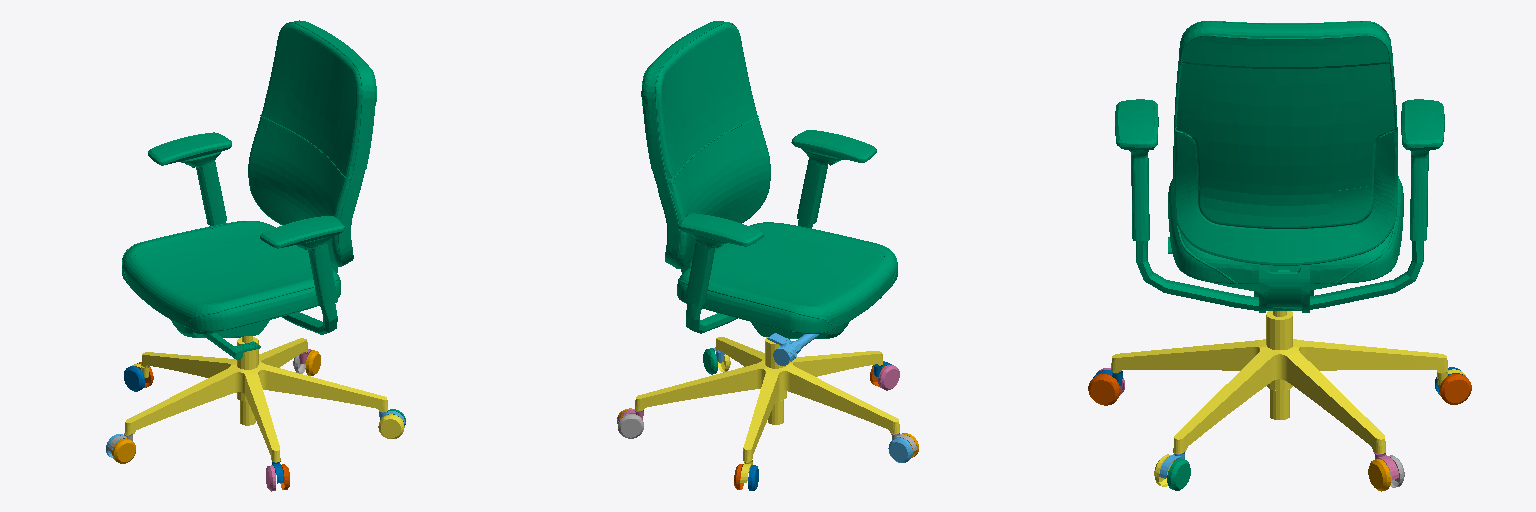
robot.urdf — partnet_6b64af50e21c0006f91663a74ccd2338:
<?xml version="1.0" ?>
<robot name="partnet_6b64af50e21c0006f91663a74ccd2338">
	<link name="base"/>
	<link name="link_0">
		<visual name="lever-36">
			<origin xyz="0.0867137615866961 0.2223942054426161 0"/>
			<geometry>
				<mesh filename="textured_objs/original-42.obj"/>
			</geometry>
		</visual>
		<visual name="lever-36">
			<origin xyz="0.0867137615866961 0.2223942054426161 0"/>
			<geometry>
				<mesh filename="textured_objs/original-62.obj"/>
			</geometry>
		</visual>
		<collision>
			<origin xyz="0.0867137615866961 0.2223942054426161 0"/>
			<geometry>
				<mesh filename="textured_objs/original-42.obj"/>
			</geometry>
		</collision>
		<collision>
			<origin xyz="0.0867137615866961 0.2223942054426161 0"/>
			<geometry>
				<mesh filename="textured_objs/original-62.obj"/>
			</geometry>
		</collision>
	</link>
	<joint name="joint_0" type="revolute">
		<origin xyz="-0.12395472404050402 -0.2223942054426161 -0.09912982361573322"/>
		<axis xyz="0 0 1"/>
		<child link="link_0"/>
		<parent link="link_17"/>
		<limit lower="0.0" upper="0.17453292519943295"/>
	</joint>
	<link name="link_1">
		<visual name="knob-37">
			<origin xyz="-0.11468992328806747 0.21943186004442178 0"/>
			<geometry>
				<mesh filename="textured_objs/original-40.obj"/>
			</geometry>
		</visual>
		<collision>
			<origin xyz="-0.11468992328806747 0.21943186004442178 0"/>
			<geometry>
				<mesh filename="textured_objs/original-40.obj"/>
			</geometry>
		</collision>
	</link>
	<joint name="joint_1" type="revolute">
		<origin xyz="0.07744896083425955 -0.21943186004442178 -0.09912982361573322"/>
		<axis xyz="0 0 -1"/>
		<child link="link_1"/>
		<parent link="link_17"/>
		<limit lower="-0.0" upper="0.17453292519943295"/>
	</joint>
	<link name="link_2">
		<visual name="caster_yoke-32">
			<origin xyz="0.4895858406043716 0.5830394902560276 -0.253455177251082"/>
			<geometry>
				<mesh filename="textured_objs/original-32.obj"/>
			</geometry>
		</visual>
		<visual name="caster_yoke-32">
			<origin xyz="0.4895858406043716 0.5830394902560276 -0.253455177251082"/>
			<geometry>
				<mesh filename="textured_objs/original-34.obj"/>
			</geometry>
		</visual>
		<collision>
			<origin xyz="0.4895858406043716 0.5830394902560276 -0.253455177251082"/>
			<geometry>
				<mesh filename="textured_objs/original-32.obj"/>
			</geometry>
		</collision>
		<collision>
			<origin xyz="0.4895858406043716 0.5830394902560276 -0.253455177251082"/>
			<geometry>
				<mesh filename="textured_objs/original-34.obj"/>
			</geometry>
		</collision>
	</link>
	<joint name="joint_2" type="continuous">
		<origin xyz="-0.4895858406043716 -0.5830394902560276 0.253455177251082"/>
		<axis xyz="0 1 0"/>
		<child link="link_2"/>
		<parent link="link_18"/>
	</joint>
	<link name="link_3">
		<visual name="wheel-33">
			<origin xyz="0.5533260389183724 0.6965814826370507 -0.18083248763154888"/>
			<geometry>
				<mesh filename="textured_objs/original-33.obj"/>
			</geometry>
		</visual>
		<collision>
			<origin xyz="0.5533260389183724 0.6965814826370507 -0.18083248763154888"/>
			<geometry>
				<mesh filename="textured_objs/original-33.obj"/>
			</geometry>
		</collision>
	</link>
	<joint name="joint_3" type="continuous">
		<origin xyz="-0.0637401983140008 -0.11354199238102303 -0.07262268961953314"/>
		<axis xyz="0.3106643309300376 -1.9843273926824623e-05 0.9505196858003713"/>
		<child link="link_3"/>
		<parent link="link_2"/>
	</joint>
	<link name="link_4">
		<visual name="wheel-34">
			<origin xyz="0.5533260389183724 0.6965814826370507 -0.18083248763154888"/>
			<geometry>
				<mesh filename="textured_objs/original-35.obj"/>
			</geometry>
		</visual>
		<collision>
			<origin xyz="0.5533260389183724 0.6965814826370507 -0.18083248763154888"/>
			<geometry>
				<mesh filename="textured_objs/original-35.obj"/>
			</geometry>
		</collision>
	</link>
	<joint name="joint_4" type="continuous">
		<origin xyz="-0.0637401983140008 -0.11354199238102303 -0.07262268961953314"/>
		<axis xyz="0.3106643309300376 -1.9843273926824623e-05 0.9505196858003713"/>
		<child link="link_4"/>
		<parent link="link_2"/>
	</joint>
	<link name="link_5">
		<visual name="caster_yoke-29">
			<origin xyz="0.3012912877615683 0.5847476046971485 0.3572554323833405"/>
			<geometry>
				<mesh filename="textured_objs/original-27.obj"/>
			</geometry>
		</visual>
		<visual name="caster_yoke-29">
			<origin xyz="0.3012912877615683 0.5847476046971485 0.3572554323833405"/>
			<geometry>
				<mesh filename="textured_objs/original-29.obj"/>
			</geometry>
		</visual>
		<collision>
			<origin xyz="0.3012912877615683 0.5847476046971485 0.3572554323833405"/>
			<geometry>
				<mesh filename="textured_objs/original-27.obj"/>
			</geometry>
		</collision>
		<collision>
			<origin xyz="0.3012912877615683 0.5847476046971485 0.3572554323833405"/>
			<geometry>
				<mesh filename="textured_objs/original-29.obj"/>
			</geometry>
		</collision>
	</link>
	<joint name="joint_5" type="continuous">
		<origin xyz="-0.3012912877615683 -0.5847476046971485 -0.3572554323833405"/>
		<axis xyz="0 1 0"/>
		<child link="link_5"/>
		<parent link="link_18"/>
	</joint>
	<link name="link_6">
		<visual name="wheel-30">
			<origin xyz="0.2778916245334744 0.6980831859704367 0.4088713372907437"/>
			<geometry>
				<mesh filename="textured_objs/original-28.obj"/>
			</geometry>
		</visual>
		<collision>
			<origin xyz="0.2778916245334744 0.6980831859704367 0.4088713372907437"/>
			<geometry>
				<mesh filename="textured_objs/original-28.obj"/>
			</geometry>
		</collision>
	</link>
	<joint name="joint_6" type="continuous">
		<origin xyz="0.023399663228093948 -0.11333558127328824 -0.0516159049074032"/>
		<axis xyz="0.8270832800434914 -3.061998074444318e-05 -0.5620793955794112"/>
		<child link="link_6"/>
		<parent link="link_5"/>
	</joint>
	<link name="link_7">
		<visual name="wheel-31">
			<origin xyz="0.2778916245334744 0.6980831859704367 0.4088713372907437"/>
			<geometry>
				<mesh filename="textured_objs/original-30.obj"/>
			</geometry>
		</visual>
		<collision>
			<origin xyz="0.2778916245334744 0.6980831859704367 0.4088713372907437"/>
			<geometry>
				<mesh filename="textured_objs/original-30.obj"/>
			</geometry>
		</collision>
	</link>
	<joint name="joint_7" type="continuous">
		<origin xyz="0.023399663228093948 -0.11333558127328824 -0.0516159049074032"/>
		<axis xyz="0.8270832800434914 -3.061998074444318e-05 -0.5620793955794112"/>
		<child link="link_7"/>
		<parent link="link_5"/>
	</joint>
	<link name="link_8">
		<visual name="caster_yoke-26">
			<origin xyz="-0.34291460485739095 0.5821575973237061 0.35257194262323965"/>
			<geometry>
				<mesh filename="textured_objs/original-58.obj"/>
			</geometry>
		</visual>
		<visual name="caster_yoke-26">
			<origin xyz="-0.34291460485739095 0.5821575973237061 0.35257194262323965"/>
			<geometry>
				<mesh filename="textured_objs/original-60.obj"/>
			</geometry>
		</visual>
		<collision>
			<origin xyz="-0.34291460485739095 0.5821575973237061 0.35257194262323965"/>
			<geometry>
				<mesh filename="textured_objs/original-58.obj"/>
			</geometry>
		</collision>
		<collision>
			<origin xyz="-0.34291460485739095 0.5821575973237061 0.35257194262323965"/>
			<geometry>
				<mesh filename="textured_objs/original-60.obj"/>
			</geometry>
		</collision>
	</link>
	<joint name="joint_8" type="continuous">
		<origin xyz="0.34291460485739095 -0.5821575973237061 -0.35257194262323965"/>
		<axis xyz="0 1 0"/>
		<child link="link_8"/>
		<parent link="link_18"/>
	</joint>
	<link name="link_9">
		<visual name="wheel-27">
			<origin xyz="-0.3174358538313395 0.6965838264138771 0.42125608016819877"/>
			<geometry>
				<mesh filename="textured_objs/original-59.obj"/>
			</geometry>
		</visual>
		<collision>
			<origin xyz="-0.3174358538313395 0.6965838264138771 0.42125608016819877"/>
			<geometry>
				<mesh filename="textured_objs/original-59.obj"/>
			</geometry>
		</collision>
	</link>
	<joint name="joint_9" type="continuous">
		<origin xyz="-0.02547875102605146 -0.11442622909017097 -0.06868413754495911"/>
		<axis xyz="0.7986350590458754 -4.4415992680479e-06 0.6018156216342871"/>
		<child link="link_9"/>
		<parent link="link_8"/>
	</joint>
	<link name="link_10">
		<visual name="wheel-28">
			<origin xyz="-0.3174358538313395 0.6965838264138771 0.42125608016819877"/>
			<geometry>
				<mesh filename="textured_objs/original-61.obj"/>
			</geometry>
		</visual>
		<collision>
			<origin xyz="-0.3174358538313395 0.6965838264138771 0.42125608016819877"/>
			<geometry>
				<mesh filename="textured_objs/original-61.obj"/>
			</geometry>
		</collision>
	</link>
	<joint name="joint_10" type="continuous">
		<origin xyz="-0.02547875102605146 -0.11442622909017097 -0.06868413754495911"/>
		<axis xyz="0.7986350590458754 -4.4415992680479e-06 0.6018156216342871"/>
		<child link="link_10"/>
		<parent link="link_8"/>
	</joint>
	<link name="link_11">
		<visual name="caster_yoke-23">
			<origin xyz="-0.5444537376583825 0.5825445415306176 -0.24306977461536217"/>
			<geometry>
				<mesh filename="textured_objs/original-53.obj"/>
			</geometry>
		</visual>
		<visual name="caster_yoke-23">
			<origin xyz="-0.5444537376583825 0.5825445415306176 -0.24306977461536217"/>
			<geometry>
				<mesh filename="textured_objs/original-55.obj"/>
			</geometry>
		</visual>
		<collision>
			<origin xyz="-0.5444537376583825 0.5825445415306176 -0.24306977461536217"/>
			<geometry>
				<mesh filename="textured_objs/original-53.obj"/>
			</geometry>
		</collision>
		<collision>
			<origin xyz="-0.5444537376583825 0.5825445415306176 -0.24306977461536217"/>
			<geometry>
				<mesh filename="textured_objs/original-55.obj"/>
			</geometry>
		</collision>
	</link>
	<joint name="joint_11" type="continuous">
		<origin xyz="0.5444537376583825 -0.5825445415306176 0.24306977461536217"/>
		<axis xyz="0 1 0"/>
		<child link="link_11"/>
		<parent link="link_18"/>
	</joint>
	<link name="link_12">
		<visual name="wheel-24">
			<origin xyz="-0.599006503457298 0.6965847554468528 -0.19464303779645567"/>
			<geometry>
				<mesh filename="textured_objs/original-54.obj"/>
			</geometry>
		</visual>
		<collision>
			<origin xyz="-0.599006503457298 0.6965847554468528 -0.19464303779645567"/>
			<geometry>
				<mesh filename="textured_objs/original-54.obj"/>
			</geometry>
		</collision>
	</link>
	<joint name="joint_12" type="continuous">
		<origin xyz="0.05455276579891555 -0.1140402139162352 -0.048426736818906496"/>
		<axis xyz="-0.30901561032438146 2.0471427303068252e-05 0.9510569657790069"/>
		<child link="link_12"/>
		<parent link="link_11"/>
	</joint>
	<link name="link_13">
		<visual name="wheel-25">
			<origin xyz="-0.599006503457298 0.6965847554468528 -0.19464303779645567"/>
			<geometry>
				<mesh filename="textured_objs/original-56.obj"/>
			</geometry>
		</visual>
		<collision>
			<origin xyz="-0.599006503457298 0.6965847554468528 -0.19464303779645567"/>
			<geometry>
				<mesh filename="textured_objs/original-56.obj"/>
			</geometry>
		</collision>
	</link>
	<joint name="joint_13" type="continuous">
		<origin xyz="0.05455276579891555 -0.1140402139162352 -0.048426736818906496"/>
		<axis xyz="-0.30901561032438146 2.0471427303068252e-05 0.9510569657790069"/>
		<child link="link_13"/>
		<parent link="link_11"/>
	</joint>
	<link name="link_14">
		<visual name="caster_yoke-20">
			<origin xyz="-0.03309292584786161 0.5837579777996642 -0.6310802819334431"/>
			<geometry>
				<mesh filename="textured_objs/original-22.obj"/>
			</geometry>
		</visual>
		<visual name="caster_yoke-20">
			<origin xyz="-0.03309292584786161 0.5837579777996642 -0.6310802819334431"/>
			<geometry>
				<mesh filename="textured_objs/original-24.obj"/>
			</geometry>
		</visual>
		<collision>
			<origin xyz="-0.03309292584786161 0.5837579777996642 -0.6310802819334431"/>
			<geometry>
				<mesh filename="textured_objs/original-22.obj"/>
			</geometry>
		</collision>
		<collision>
			<origin xyz="-0.03309292584786161 0.5837579777996642 -0.6310802819334431"/>
			<geometry>
				<mesh filename="textured_objs/original-24.obj"/>
			</geometry>
		</collision>
	</link>
	<joint name="joint_14" type="continuous">
		<origin xyz="0.03309292584786161 -0.5837579777996642 0.6310802819334431"/>
		<axis xyz="0 1 0"/>
		<child link="link_14"/>
		<parent link="link_18"/>
	</joint>
	<link name="link_15">
		<visual name="wheel-21">
			<origin xyz="-0.007334800425433596 0.6972213598988297 -0.6677659950132963"/>
			<geometry>
				<mesh filename="textured_objs/original-23.obj"/>
			</geometry>
		</visual>
		<collision>
			<origin xyz="-0.007334800425433596 0.6972213598988297 -0.6677659950132963"/>
			<geometry>
				<mesh filename="textured_objs/original-23.obj"/>
			</geometry>
		</collision>
	</link>
	<joint name="joint_15" type="continuous">
		<origin xyz="-0.025758125422428012 -0.11346338209916551 0.03668571307985313"/>
		<axis xyz="0.999939204717544 -4.1322984117651575e-05 -0.011026566158899317"/>
		<child link="link_15"/>
		<parent link="link_14"/>
	</joint>
	<link name="link_16">
		<visual name="wheel-22">
			<origin xyz="-0.007334800425433596 0.6972213598988297 -0.6677659950132963"/>
			<geometry>
				<mesh filename="textured_objs/original-25.obj"/>
			</geometry>
		</visual>
		<collision>
			<origin xyz="-0.007334800425433596 0.6972213598988297 -0.6677659950132963"/>
			<geometry>
				<mesh filename="textured_objs/original-25.obj"/>
			</geometry>
		</collision>
	</link>
	<joint name="joint_16" type="continuous">
		<origin xyz="-0.025758125422428012 -0.11346338209916551 0.03668571307985313"/>
		<axis xyz="0.999939204717544 -4.1322984117651575e-05 -0.011026566158899317"/>
		<child link="link_16"/>
		<parent link="link_14"/>
	</joint>
	<link name="link_17">
		<visual name="seat_soft_surface-57">
			<origin xyz="-0.037240962453807924 0 -0.09912982361573322"/>
			<geometry>
				<mesh filename="textured_objs/original-2.obj"/>
			</geometry>
		</visual>
		<visual name="seat_soft_surface-57">
			<origin xyz="-0.037240962453807924 0 -0.09912982361573322"/>
			<geometry>
				<mesh filename="textured_objs/original-18.obj"/>
			</geometry>
		</visual>
		<visual name="seat_soft_surface-57">
			<origin xyz="-0.037240962453807924 0 -0.09912982361573322"/>
			<geometry>
				<mesh filename="textured_objs/original-43.obj"/>
			</geometry>
		</visual>
		<visual name="seat_soft_surface-57">
			<origin xyz="-0.037240962453807924 0 -0.09912982361573322"/>
			<geometry>
				<mesh filename="textured_objs/original-4.obj"/>
			</geometry>
		</visual>
		<visual name="seat_soft_surface-57">
			<origin xyz="-0.037240962453807924 0 -0.09912982361573322"/>
			<geometry>
				<mesh filename="textured_objs/original-3.obj"/>
			</geometry>
		</visual>
		<visual name="back_soft_surface-54">
			<origin xyz="-0.037240962453807924 0 -0.09912982361573322"/>
			<geometry>
				<mesh filename="textured_objs/original-7.obj"/>
			</geometry>
		</visual>
		<visual name="back_soft_surface-54">
			<origin xyz="-0.037240962453807924 0 -0.09912982361573322"/>
			<geometry>
				<mesh filename="textured_objs/original-10.obj"/>
			</geometry>
		</visual>
		<visual name="back_soft_surface-54">
			<origin xyz="-0.037240962453807924 0 -0.09912982361573322"/>
			<geometry>
				<mesh filename="textured_objs/original-16.obj"/>
			</geometry>
		</visual>
		<visual name="back_soft_surface-54">
			<origin xyz="-0.037240962453807924 0 -0.09912982361573322"/>
			<geometry>
				<mesh filename="textured_objs/original-9.obj"/>
			</geometry>
		</visual>
		<visual name="back_soft_surface-54">
			<origin xyz="-0.037240962453807924 0 -0.09912982361573322"/>
			<geometry>
				<mesh filename="textured_objs/original-11.obj"/>
			</geometry>
		</visual>
		<visual name="back_soft_surface-54">
			<origin xyz="-0.037240962453807924 0 -0.09912982361573322"/>
			<geometry>
				<mesh filename="textured_objs/original-8.obj"/>
			</geometry>
		</visual>
		<visual name="back_connector-53">
			<origin xyz="-0.037240962453807924 0 -0.09912982361573322"/>
			<geometry>
				<mesh filename="textured_objs/original-64.obj"/>
			</geometry>
		</visual>
		<visual name="armrest_soft_surface-49">
			<origin xyz="-0.037240962453807924 0 -0.09912982361573322"/>
			<geometry>
				<mesh filename="textured_objs/original-44.obj"/>
			</geometry>
		</visual>
		<visual name="arm_vertical_bar-50">
			<origin xyz="-0.037240962453807924 0 -0.09912982361573322"/>
			<geometry>
				<mesh filename="textured_objs/original-38.obj"/>
			</geometry>
		</visual>
		<visual name="arm_vertical_bar-50">
			<origin xyz="-0.037240962453807924 0 -0.09912982361573322"/>
			<geometry>
				<mesh filename="textured_objs/original-41.obj"/>
			</geometry>
		</visual>
		<visual name="arm_connector-51">
			<origin xyz="-0.037240962453807924 0 -0.09912982361573322"/>
			<geometry>
				<mesh filename="textured_objs/new-7.obj"/>
			</geometry>
		</visual>
		<visual name="armrest_soft_surface-46">
			<origin xyz="-0.037240962453807924 0 -0.09912982361573322"/>
			<geometry>
				<mesh filename="textured_objs/original-47.obj"/>
			</geometry>
		</visual>
		<visual name="arm_vertical_bar-47">
			<origin xyz="-0.037240962453807924 0 -0.09912982361573322"/>
			<geometry>
				<mesh filename="textured_objs/original-39.obj"/>
			</geometry>
		</visual>
		<visual name="arm_vertical_bar-47">
			<origin xyz="-0.037240962453807924 0 -0.09912982361573322"/>
			<geometry>
				<mesh filename="textured_objs/original-46.obj"/>
			</geometry>
		</visual>
		<visual name="arm_connector-48">
			<origin xyz="-0.037240962453807924 0 -0.09912982361573322"/>
			<geometry>
				<mesh filename="textured_objs/new-6.obj"/>
			</geometry>
		</visual>
		<visual name="mounting_plate-55">
			<origin xyz="-0.037240962453807924 0 -0.09912982361573322"/>
			<geometry>
				<mesh filename="textured_objs/original-65.obj"/>
			</geometry>
		</visual>
		<collision>
			<origin xyz="-0.037240962453807924 0 -0.09912982361573322"/>
			<geometry>
				<mesh filename="textured_objs/original-2.obj"/>
			</geometry>
		</collision>
		<collision>
			<origin xyz="-0.037240962453807924 0 -0.09912982361573322"/>
			<geometry>
				<mesh filename="textured_objs/original-18.obj"/>
			</geometry>
		</collision>
		<collision>
			<origin xyz="-0.037240962453807924 0 -0.09912982361573322"/>
			<geometry>
				<mesh filename="textured_objs/original-43.obj"/>
			</geometry>
		</collision>
		<collision>
			<origin xyz="-0.037240962453807924 0 -0.09912982361573322"/>
			<geometry>
				<mesh filename="textured_objs/original-4.obj"/>
			</geometry>
		</collision>
		<collision>
			<origin xyz="-0.037240962453807924 0 -0.09912982361573322"/>
			<geometry>
				<mesh filename="textured_objs/original-3.obj"/>
			</geometry>
		</collision>
		<collision>
			<origin xyz="-0.037240962453807924 0 -0.09912982361573322"/>
			<geometry>
				<mesh filename="textured_objs/original-7.obj"/>
			</geometry>
		</collision>
		<collision>
			<origin xyz="-0.037240962453807924 0 -0.09912982361573322"/>
			<geometry>
				<mesh filename="textured_objs/original-10.obj"/>
			</geometry>
		</collision>
		<collision>
			<origin xyz="-0.037240962453807924 0 -0.09912982361573322"/>
			<geometry>
				<mesh filename="textured_objs/original-16.obj"/>
			</geometry>
		</collision>
		<collision>
			<origin xyz="-0.037240962453807924 0 -0.09912982361573322"/>
			<geometry>
				<mesh filename="textured_objs/original-9.obj"/>
			</geometry>
		</collision>
		<collision>
			<origin xyz="-0.037240962453807924 0 -0.09912982361573322"/>
			<geometry>
				<mesh filename="textured_objs/original-11.obj"/>
			</geometry>
		</collision>
		<collision>
			<origin xyz="-0.037240962453807924 0 -0.09912982361573322"/>
			<geometry>
				<mesh filename="textured_objs/original-8.obj"/>
			</geometry>
		</collision>
		<collision>
			<origin xyz="-0.037240962453807924 0 -0.09912982361573322"/>
			<geometry>
				<mesh filename="textured_objs/original-64.obj"/>
			</geometry>
		</collision>
		<collision>
			<origin xyz="-0.037240962453807924 0 -0.09912982361573322"/>
			<geometry>
				<mesh filename="textured_objs/original-44.obj"/>
			</geometry>
		</collision>
		<collision>
			<origin xyz="-0.037240962453807924 0 -0.09912982361573322"/>
			<geometry>
				<mesh filename="textured_objs/original-38.obj"/>
			</geometry>
		</collision>
		<collision>
			<origin xyz="-0.037240962453807924 0 -0.09912982361573322"/>
			<geometry>
				<mesh filename="textured_objs/original-41.obj"/>
			</geometry>
		</collision>
		<collision>
			<origin xyz="-0.037240962453807924 0 -0.09912982361573322"/>
			<geometry>
				<mesh filename="textured_objs/new-7.obj"/>
			</geometry>
		</collision>
		<collision>
			<origin xyz="-0.037240962453807924 0 -0.09912982361573322"/>
			<geometry>
				<mesh filename="textured_objs/original-47.obj"/>
			</geometry>
		</collision>
		<collision>
			<origin xyz="-0.037240962453807924 0 -0.09912982361573322"/>
			<geometry>
				<mesh filename="textured_objs/original-39.obj"/>
			</geometry>
		</collision>
		<collision>
			<origin xyz="-0.037240962453807924 0 -0.09912982361573322"/>
			<geometry>
				<mesh filename="textured_objs/original-46.obj"/>
			</geometry>
		</collision>
		<collision>
			<origin xyz="-0.037240962453807924 0 -0.09912982361573322"/>
			<geometry>
				<mesh filename="textured_objs/new-6.obj"/>
			</geometry>
		</collision>
		<collision>
			<origin xyz="-0.037240962453807924 0 -0.09912982361573322"/>
			<geometry>
				<mesh filename="textured_objs/original-65.obj"/>
			</geometry>
		</collision>
	</link>
	<joint name="joint_17" type="continuous">
		<origin xyz="0.0 0 0.0"/>
		<axis xyz="0 1 0"/>
		<child link="link_17"/>
		<parent link="link_17_helper"/>
	</joint>
	<link name="link_18">
		<visual name="central_support-7">
			<origin xyz="0 0 0"/>
			<geometry>
				<mesh filename="textured_objs/new-5.obj"/>
			</geometry>
		</visual>
		<visual name="leg-10">
			<origin xyz="0 0 0"/>
			<geometry>
				<mesh filename="textured_objs/new-4.obj"/>
			</geometry>
		</visual>
		<visual name="leg-11">
			<origin xyz="0 0 0"/>
			<geometry>
				<mesh filename="textured_objs/new-3.obj"/>
			</geometry>
		</visual>
		<visual name="leg-12">
			<origin xyz="0 0 0"/>
			<geometry>
				<mesh filename="textured_objs/new-2.obj"/>
			</geometry>
		</visual>
		<visual name="leg-13">
			<origin xyz="0 0 0"/>
			<geometry>
				<mesh filename="textured_objs/new-1.obj"/>
			</geometry>
		</visual>
		<visual name="leg-14">
			<origin xyz="0 0 0"/>
			<geometry>
				<mesh filename="textured_objs/new-0.obj"/>
			</geometry>
		</visual>
		<collision>
			<origin xyz="0 0 0"/>
			<geometry>
				<mesh filename="textured_objs/new-5.obj"/>
			</geometry>
		</collision>
		<collision>
			<origin xyz="0 0 0"/>
			<geometry>
				<mesh filename="textured_objs/new-4.obj"/>
			</geometry>
		</collision>
		<collision>
			<origin xyz="0 0 0"/>
			<geometry>
				<mesh filename="textured_objs/new-3.obj"/>
			</geometry>
		</collision>
		<collision>
			<origin xyz="0 0 0"/>
			<geometry>
				<mesh filename="textured_objs/new-2.obj"/>
			</geometry>
		</collision>
		<collision>
			<origin xyz="0 0 0"/>
			<geometry>
				<mesh filename="textured_objs/new-1.obj"/>
			</geometry>
		</collision>
		<collision>
			<origin xyz="0 0 0"/>
			<geometry>
				<mesh filename="textured_objs/new-0.obj"/>
			</geometry>
		</collision>
	</link>
	<joint name="joint_18" type="fixed">
		<origin rpy="1.570796326794897 0 -1.570796326794897" xyz="0 0 0"/>
		<child link="link_18"/>
		<parent link="base"/>
	</joint>
	<link name="link_17_helper"/>
	<joint name="joint_19" type="prismatic">
		<origin xyz="0.037240962453807924 0 0.09912982361573322"/>
		<axis xyz="0 -1 0"/>
		<child link="link_17_helper"/>
		<parent link="link_18"/>
		<limit lower="0" upper="0.1"/>
	</joint>
</robot>

--- What the picture shows (computed from the rendered views, not written in the file) ---
Views: 3 orthographic renders of the robot side by side, from view 1: azimuth 30°, elevation 25°; view 2: azimuth 150°, elevation 25°; view 3: azimuth 270°, elevation 25°.
Model partnet_6b64af50e21c0006f91663a74ccd2338 with 21 links and 20 joints (2 revolute, 16 continuous, 1 prismatic, 1 fixed), rooted at base, posed all joints at 0.
Links seen in each view (by area): view 1: link_17, link_18, link_1; view 2: link_17, link_18, link_0; view 3: link_17, link_18, link_12, link_4, link_9, link_7.
Link boxes in pixels (bbox=[...]): link_17: bbox=[122, 20, 376, 337]; link_18: bbox=[125, 336, 387, 462]; link_1: bbox=[203, 333, 260, 359]; link_17: bbox=[641, 21, 897, 339]; link_18: bbox=[635, 337, 899, 461]; link_0: bbox=[767, 333, 819, 365]; link_17: bbox=[1115, 21, 1444, 312]; link_18: bbox=[1111, 311, 1448, 453]; link_12: bbox=[1088, 374, 1120, 405]; link_4: bbox=[1439, 374, 1471, 404]; link_9: bbox=[1167, 458, 1190, 490]; link_7: bbox=[1368, 459, 1390, 491].
Bounding box of the posed robot: 1.17 × 1.22 × 1.6 m (x, y, z).
Meshes: 50 distinct files referenced, 50 mesh visuals loaded (50 OBJ).
